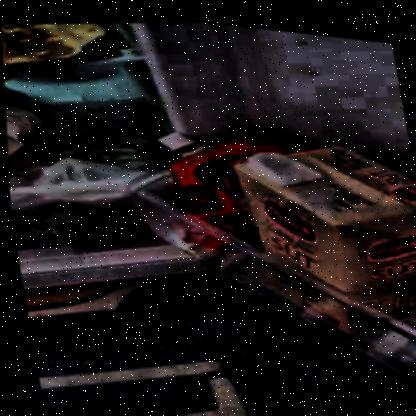eggs: (1, 14, 90, 79)
milk: (235, 119, 415, 320)
